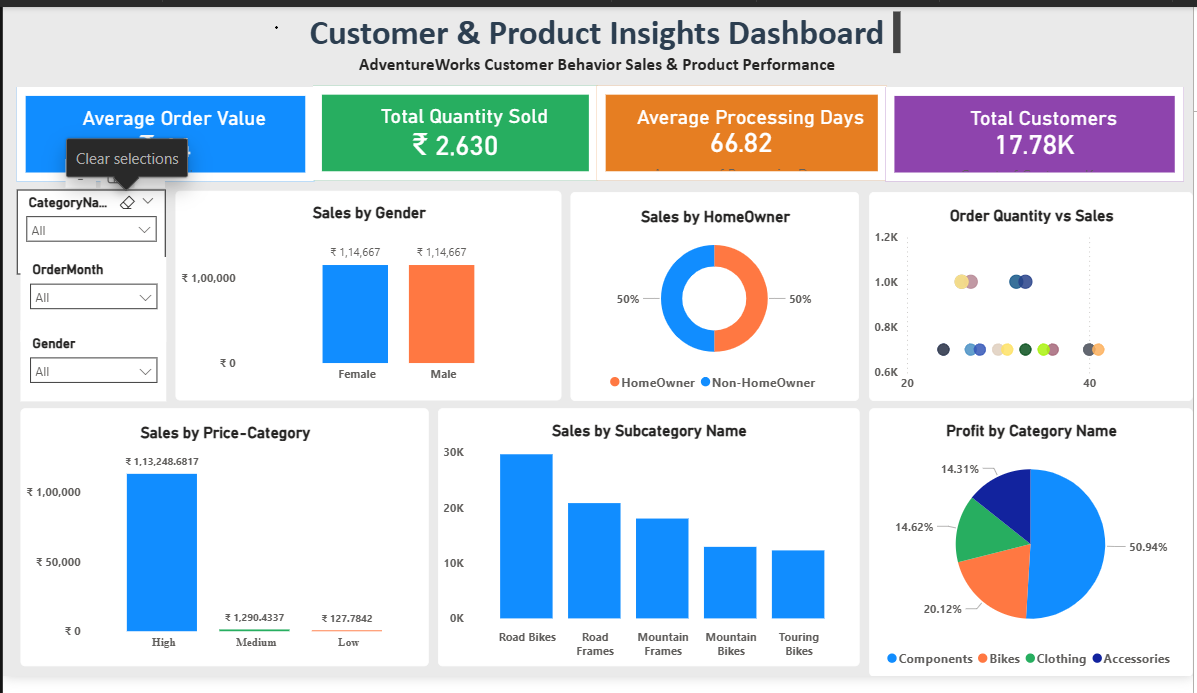

The page's visual inventory and layout, read from the dashboard file:
{"tool":"powerbi","page":{"name":"Page 2","canvas":[1280,720],"ordinal":1},"visuals":[{"type":"textbox","box":[316.4,0,654.3,55.2],"z":0},{"type":"textbox","box":[363.5,45.8,552,49.8],"z":1000},{"type":"card","title":"Average Order Value","fields":{"Values":["customer_dataset customer.1Avg Order Value"]},"box":[15.1,86.4,319.7,101.5],"z":2000},{"type":"card","title":"Total Quantity Sold","fields":{"Values":["Sum(customer_dataset sales.OrderQuantity)"]},"box":[333.3,85,306.7,101.7],"z":3000},{"type":"card","title":"Average Processing Days","fields":{"Values":["Avg(customer_dataset sales.ProcessingDays)"]},"box":[638.3,85,311.7,101.7],"z":4000},{"type":"card","title":"Total Customers","fields":{"Values":["CountNonNull(customer_dataset customer.CustomerKey)"]},"box":[949.6,86.4,321.1,101.5],"z":5000},{"type":"slicer","fields":{"Values":["customer_dataset productcategories.CategoryName"]},"box":[15.4,196.5,160,91.2],"z":6000},{"type":"slicer","fields":{"Values":["customer_dataset sales.OrderMonth"]},"box":[18.2,269.5,157.2,91.2],"z":7000},{"type":"slicer","fields":{"Values":["customer_dataset customer.Gender"]},"box":[18.2,348.1,157.2,75.8],"z":8000},{"type":"clusteredColumnChart","title":"Sales  by Gender","fields":{"Category":["customer_dataset customer.Gender"],"Y":["Sum(customer_dataset product.SalesAmount)"]},"box":[185.3,197.9,415.4,226],"z":9000},{"type":"donutChart","title":"Sales by HomeOwner","fields":{"Y":["Sum(customer_dataset product.SalesAmount)"],"Category":["customer_dataset customer.HomeOwner"]},"box":[610.5,199.3,310.2,224.6],"z":10000},{"type":"scatterChart","title":"Order Quantity vs Sales","fields":{"X":["Sum(customer_dataset sales.OrderQuantity)"],"Y":["Sum(customer_dataset product.SalesAmount)"],"Size":["Sum(customer_dataset product.ProductPrice)"],"Series":["customer_dataset product.ProductKey"]},"box":[931.9,199.3,348.1,224.6],"z":11000},{"type":"clusteredColumnChart","title":" Sales by Price-Category","fields":{"Y":["Sum(customer_dataset product.SalesAmount)"],"Category":["customer_dataset product.PriceCategory"]},"box":[18.2,432.3,439.3,277.9],"z":12000},{"type":"clusteredColumnChart","title":"Sales by Subcategory Name","fields":{"Category":["customer_dataset productsubcategories.SubcategoryName"],"Y":["Sum(customer_dataset product.SalesAmount)"]},"box":[467.4,432.3,453.3,277.9],"z":13000},{"type":"pieChart","title":"Profit by Category Name","fields":{"Y":["Sum(customer_dataset product.ProfitMargin)"],"Category":["customer_dataset productcategories.CategoryName"]},"box":[932.3,431.8,347.7,288.8],"z":14000}]}

Visuals, with their boxes in screenshot pixels (x1, y1, x2, y2), scaled from the page's 1280x720 canvas onto the 1197x693 screenshot:
textbox: (left=296, top=0, right=908, bottom=53)
textbox: (left=340, top=44, right=856, bottom=92)
"Average Order Value" card: (left=14, top=83, right=313, bottom=181)
"Total Quantity Sold" card: (left=312, top=82, right=598, bottom=180)
"Average Processing Days" card: (left=597, top=82, right=888, bottom=180)
"Total Customers" card: (left=888, top=83, right=1188, bottom=181)
slicer - customer_dataset productcategories.CategoryName: (left=14, top=189, right=164, bottom=277)
slicer - customer_dataset sales.OrderMonth: (left=17, top=259, right=164, bottom=347)
slicer - customer_dataset customer.Gender: (left=17, top=335, right=164, bottom=408)
"Sales  by Gender" clusteredColumnChart: (left=173, top=190, right=562, bottom=408)
"Sales by HomeOwner" donutChart: (left=571, top=192, right=861, bottom=408)
"Order Quantity vs Sales" scatterChart: (left=871, top=192, right=1196, bottom=408)
" Sales by Price-Category" clusteredColumnChart: (left=17, top=416, right=428, bottom=684)
"Sales by Subcategory Name" clusteredColumnChart: (left=437, top=416, right=861, bottom=684)
"Profit by Category Name" pieChart: (left=872, top=416, right=1196, bottom=692)
